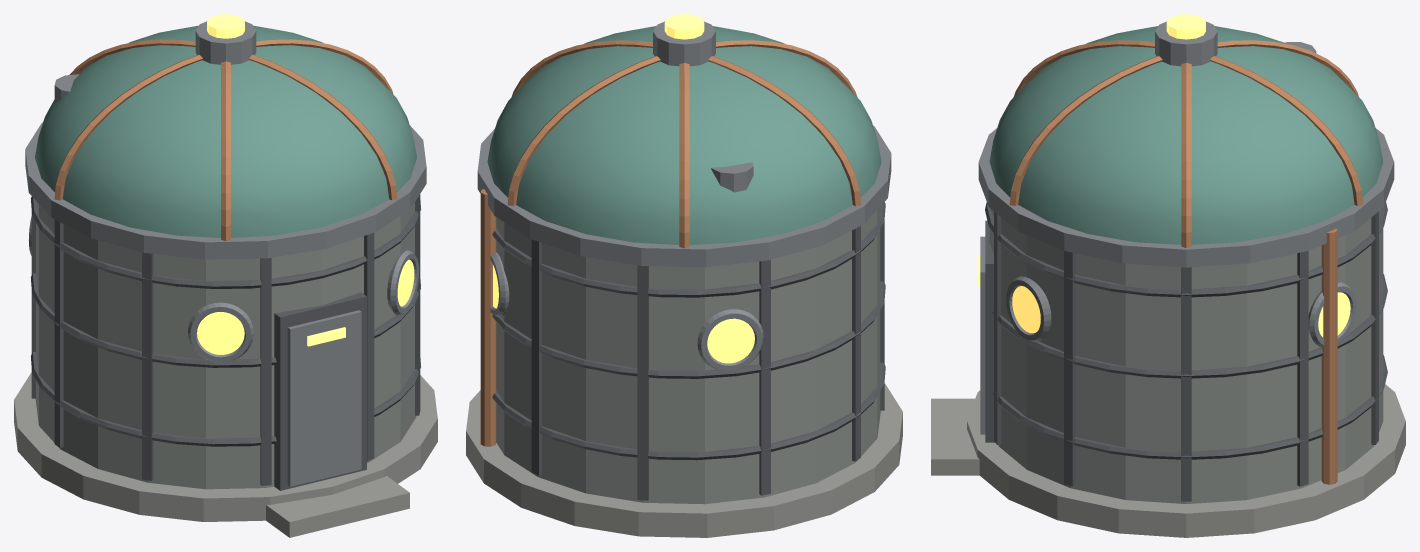
File: pod.glb
The picture shows the model from 3 angles, left to right: view 1: azimuth 30°, elevation 25°; view 2: azimuth 150°, elevation 25°; view 3: azimuth 270°, elevation 25°; orthographic projection. The views are drawn at different scales.
Visible parts, largest first — view 1: pod; view 2: pod; view 3: pod.
Boxes of the visible parts, x1,y1,x2,y2 form: pod: [14, 14, 437, 537]; pod: [466, 14, 902, 537]; pod: [931, 14, 1405, 537].
Bounding box in the file's own units: 4.9 × 5.21 × 5.3.
